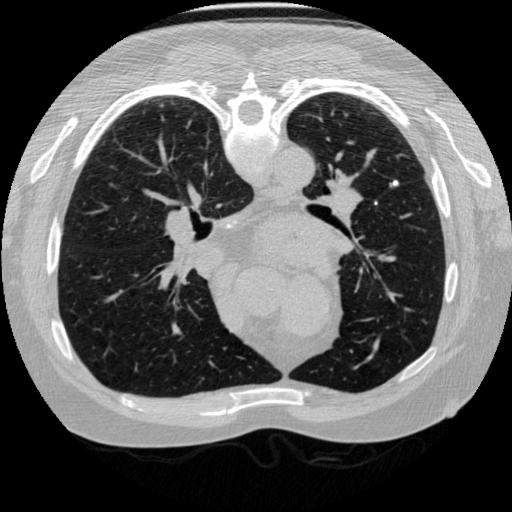nodule: (387, 177, 400, 190)
